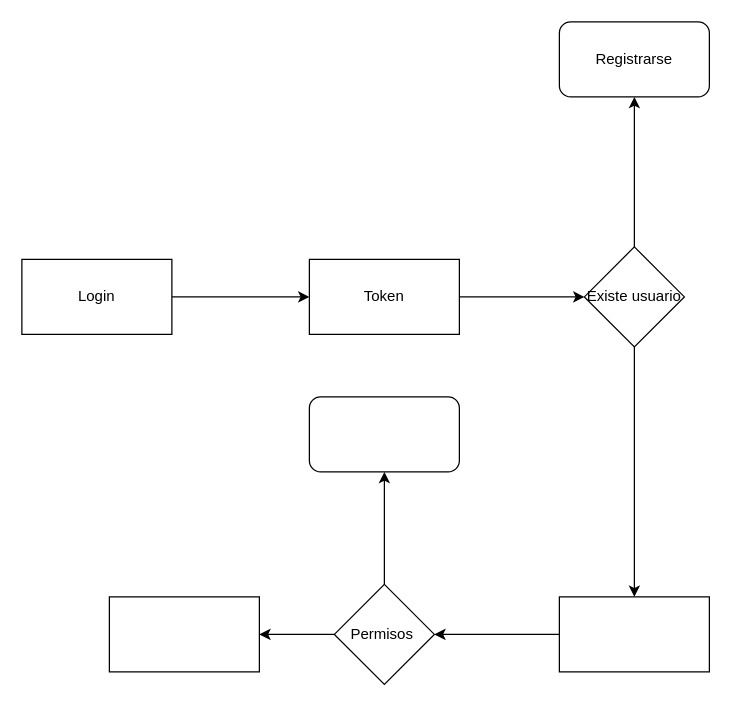
The diagram is 731 pixels wide and 706 high, and some of its shapes have lost their labels. Each missing label, with the centre of its shape:
Mensaje "No autorizado": point (383, 434)
Modificar Usuario: point (183, 634)
Pagina Principal: point (633, 634)
